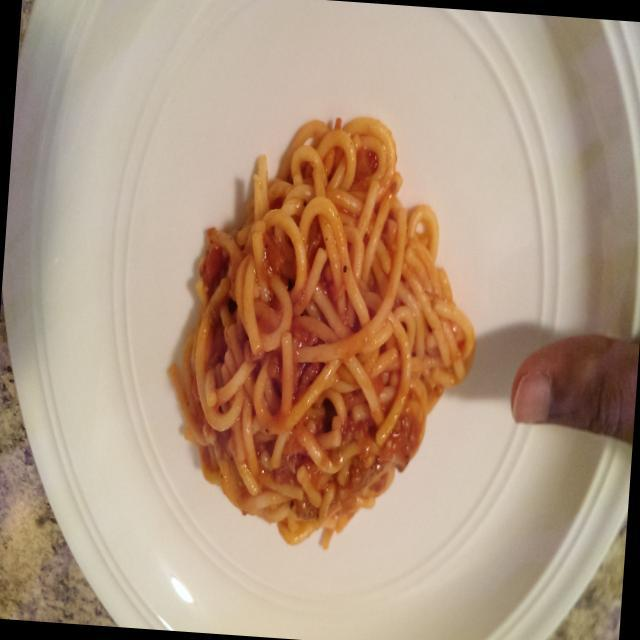Pasta: (127, 93, 501, 590)
